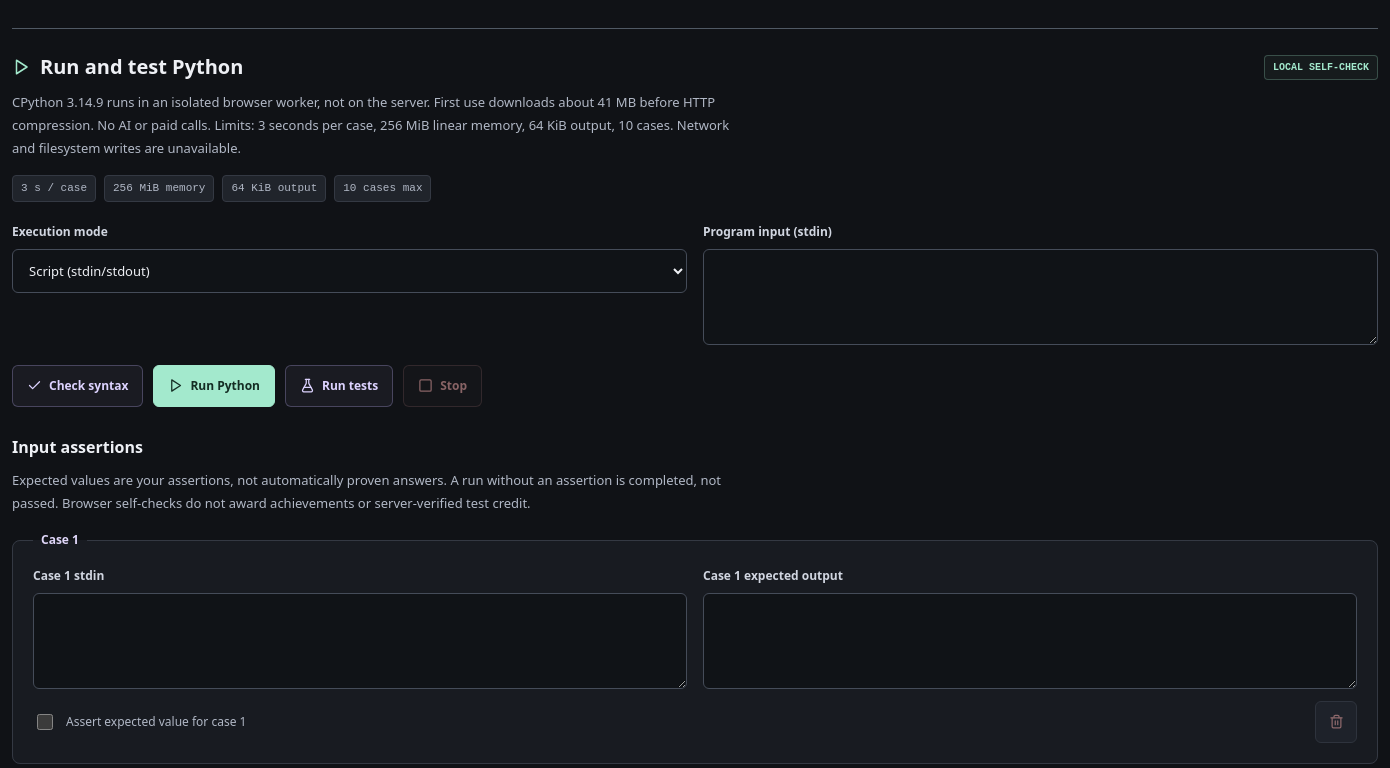
Test: renders runtime exceptions, exit codes, stdout and stderr without HTML interpretation
What coordinates should you click on to do the following:
click the button "Run Python"
I would click on:
 (214, 386)
Its box is [153,365,275,407].
(page scrolled)
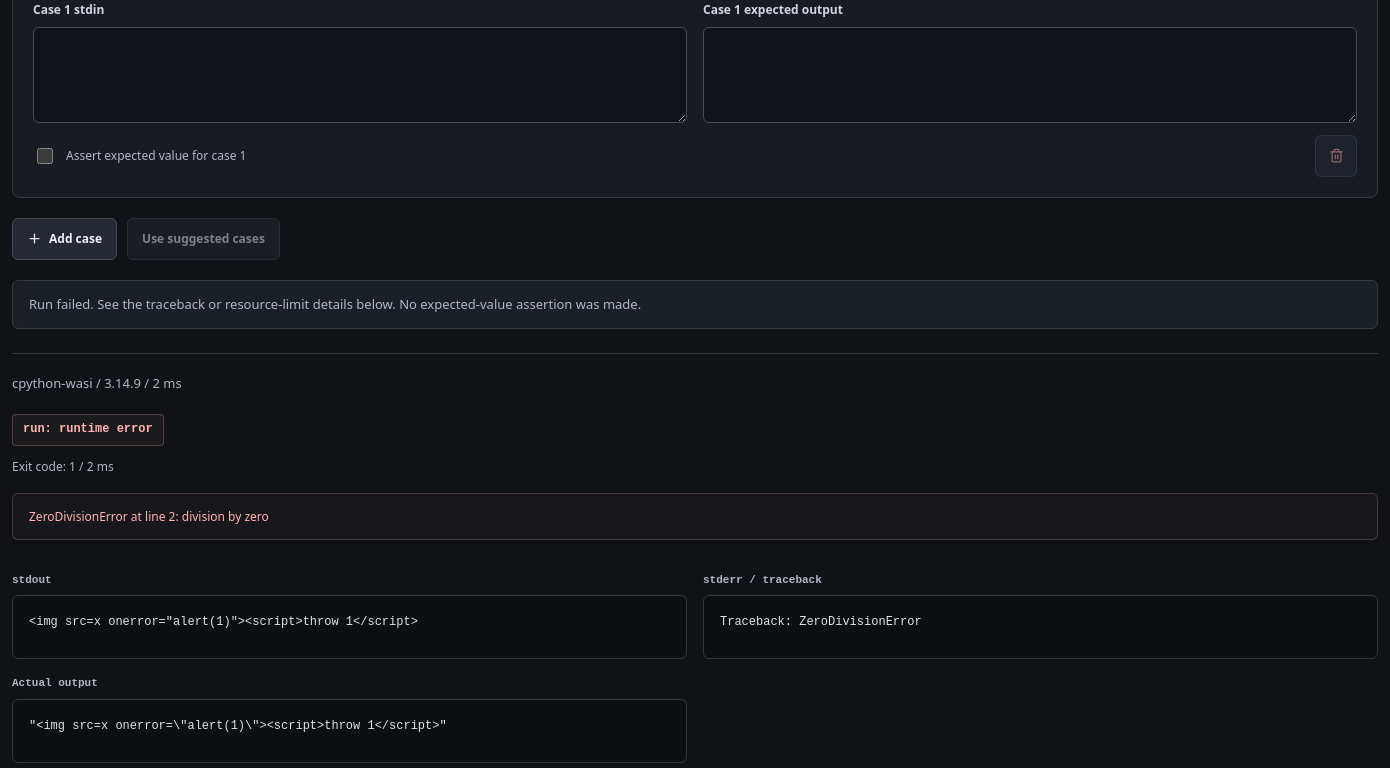
Expected: the text "ZeroDivisionError at line 2: division by zero" is shown, [12,492,1378,540]
Expected: the text "Traceback: ZeroDivisionError" is shown, [703,595,1378,659]
Expected: the text "<img src=x onerror=\"alert(1)\"><script>throw 1</script>" is shown, [12,595,687,659]
